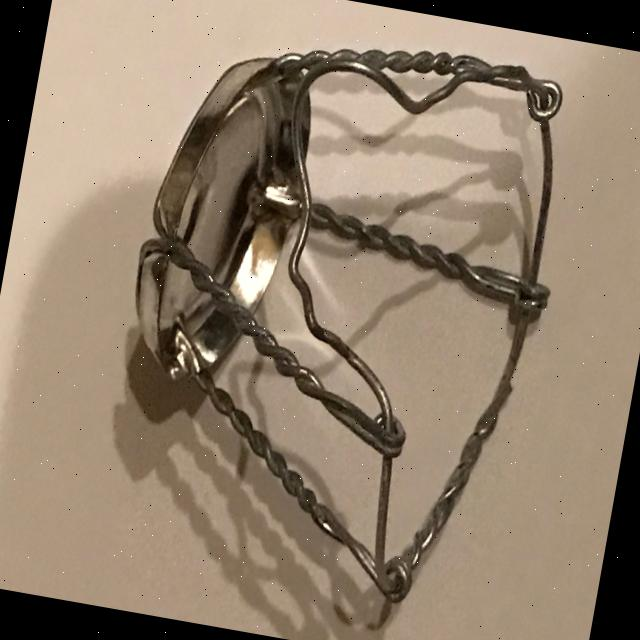metal: (86, 3, 588, 621)
